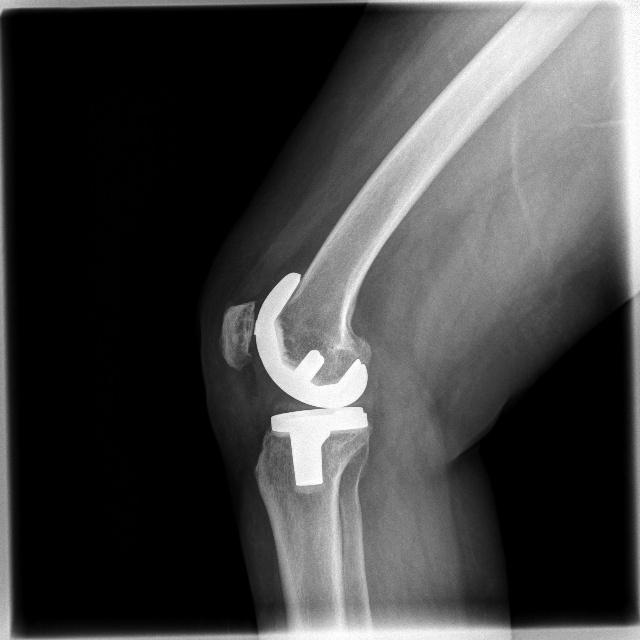Knee: (213, 264, 374, 502)
